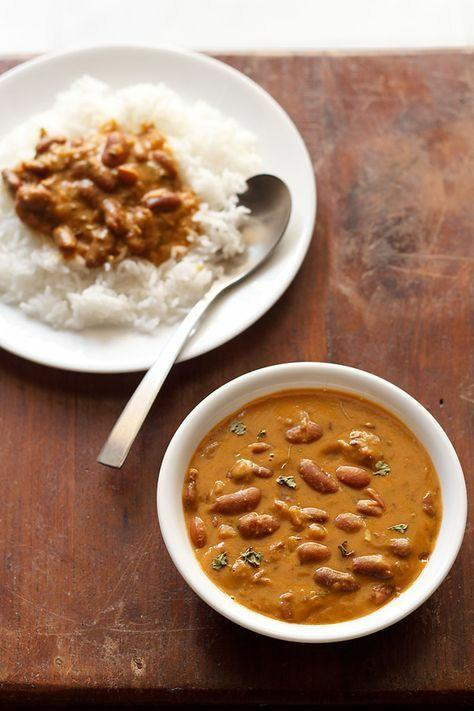RajmaCurry: (187, 383, 449, 623), (4, 118, 202, 270)
WhiteRice: (2, 71, 262, 333)
